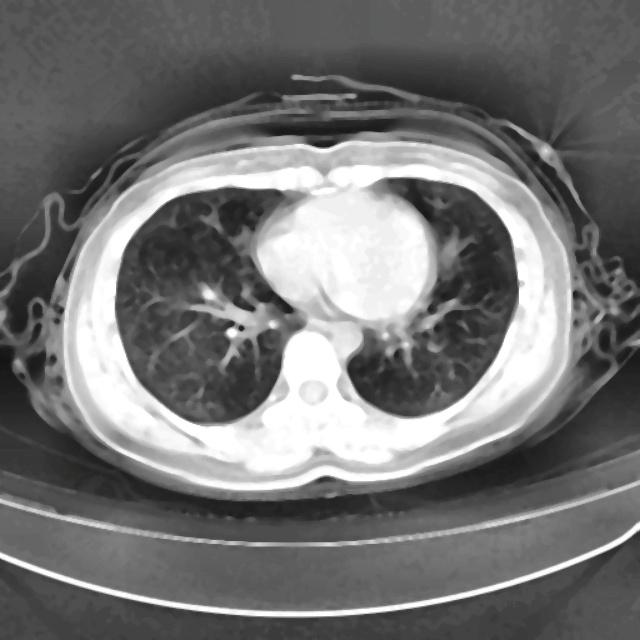covid: (1, 74, 638, 503)
